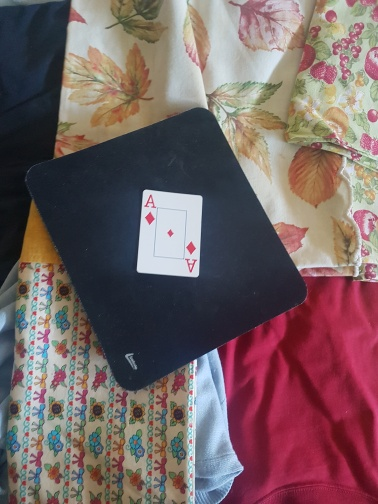ace: (136, 188, 202, 278)
